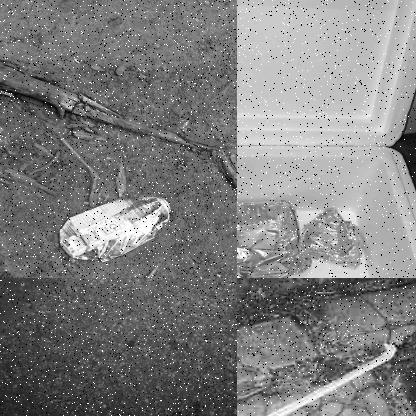metal: (64, 192, 172, 258), (237, 201, 311, 277), (306, 202, 364, 264)
plastic: (237, 0, 415, 145), (237, 145, 415, 277), (237, 341, 403, 415)
